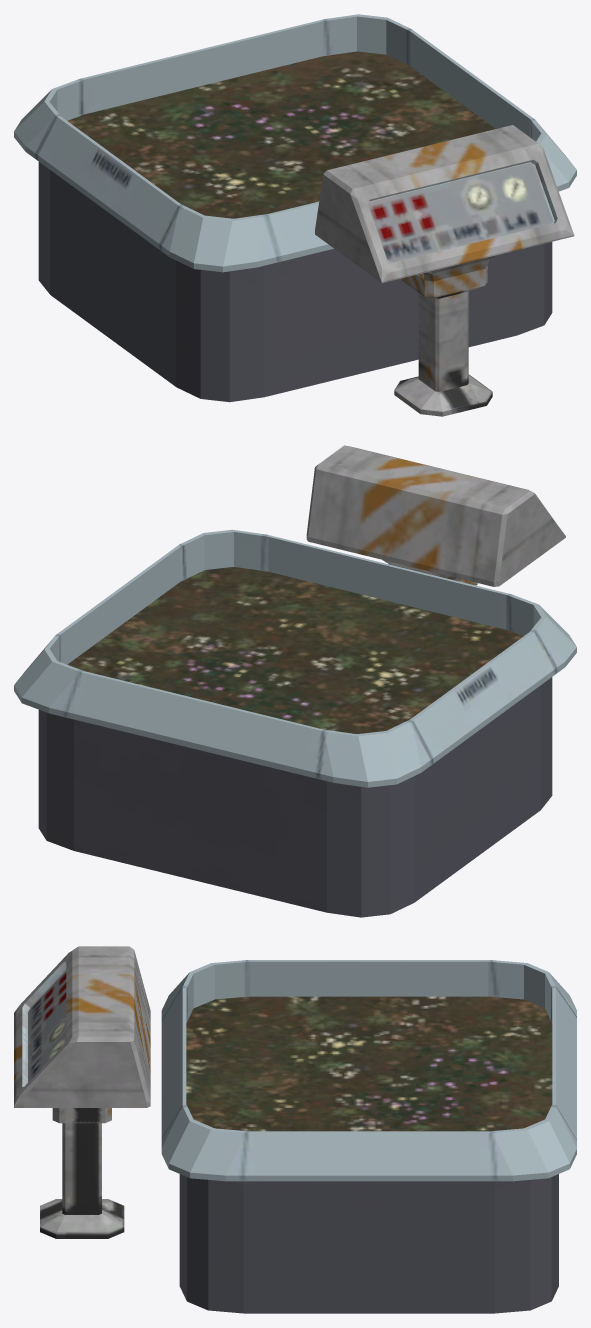
The model's file is P_WaterTank_02.obj.
3 renders of one model, top to bottom at view 1: azimuth 30°, elevation 25°; view 2: azimuth 150°, elevation 25°; view 3: azimuth 270°, elevation 25°, orthographic.
Bounding box in the file's own units: 2.19 × 1.25 × 2.71.
2 materials, 2 textured.
